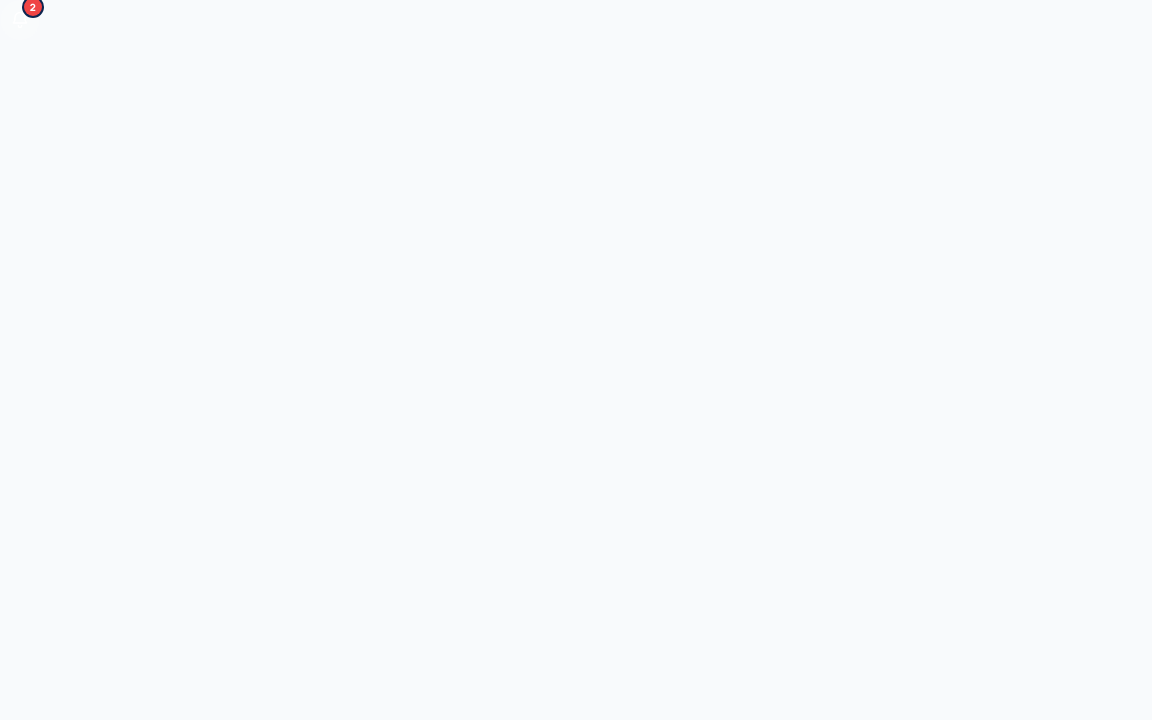
Test: NotificationBell › opens the list and marks everything read
The width and height of the screenshot is (1152, 720).
Click the button named "2 unread": (20,20) [0,0,40,40]
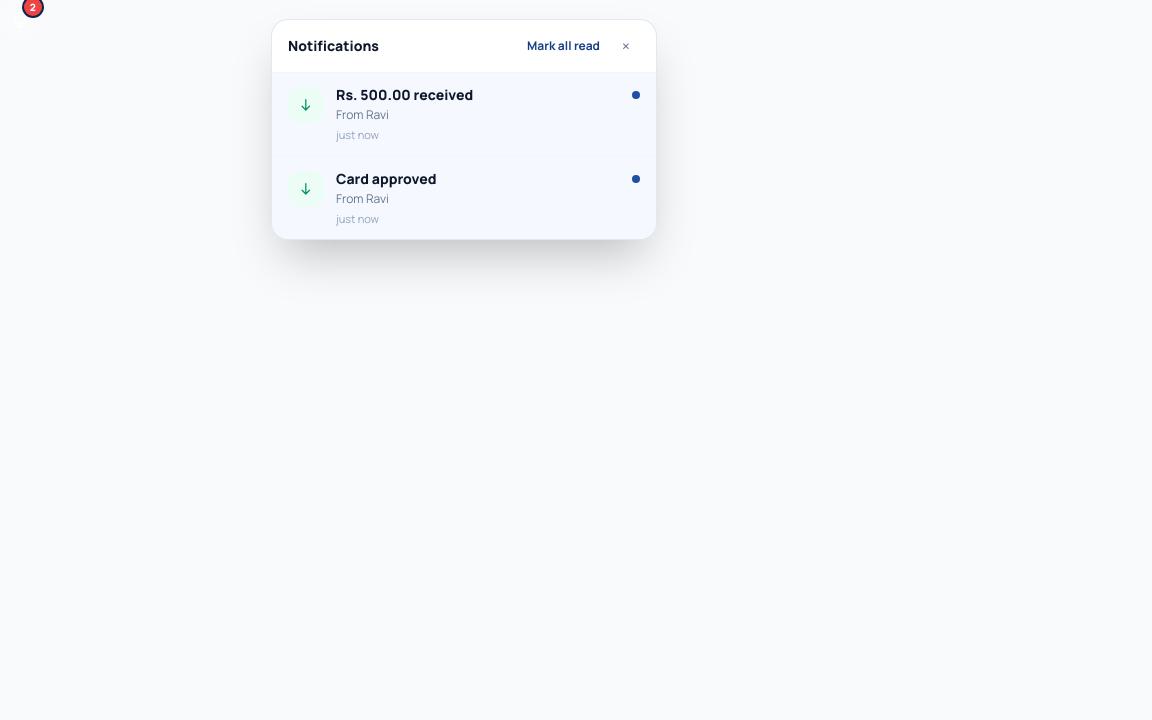
Expected: the text "Rs. 500.00 received" is shown, [336,85,473,105]
Click the button "Mark all read": (564,46) [527,38,600,54]
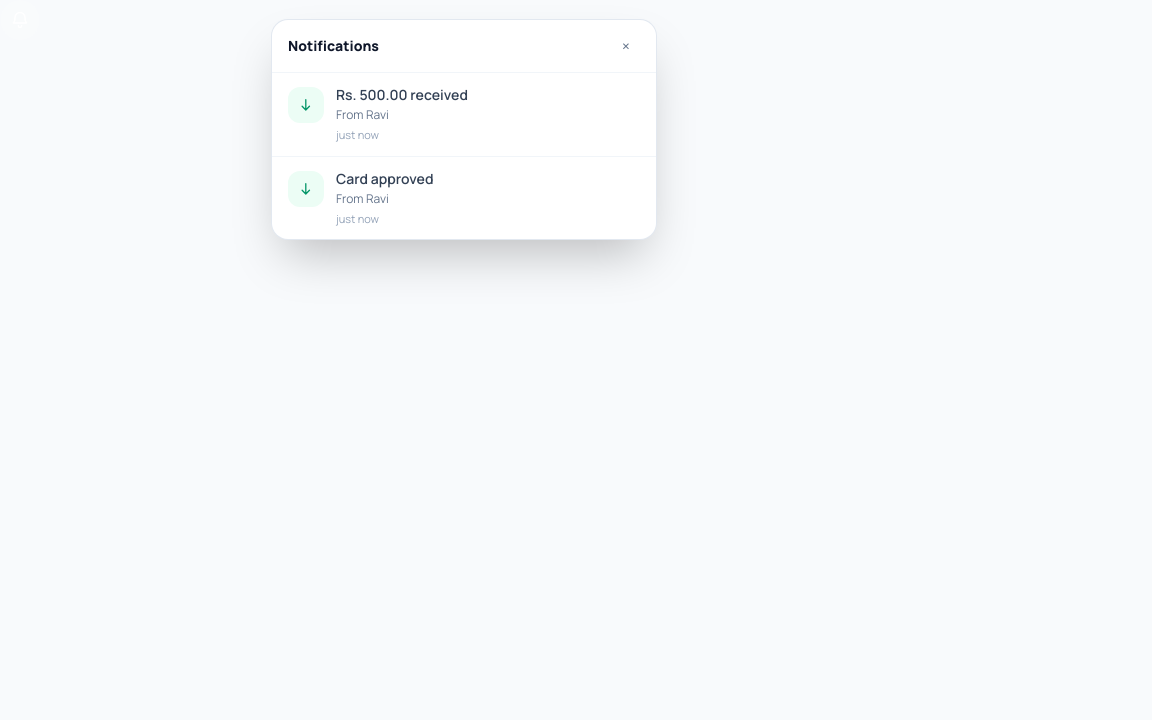
Expected: the button "Mark all read" is gone
